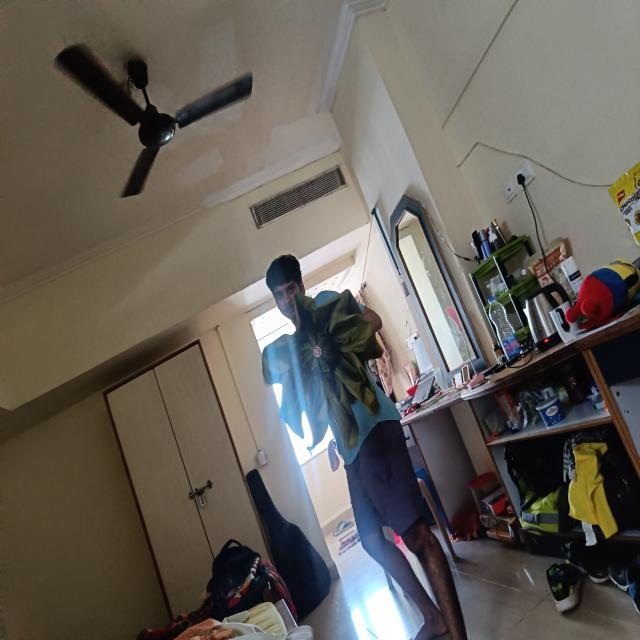umbrella: (266, 289, 383, 447)
